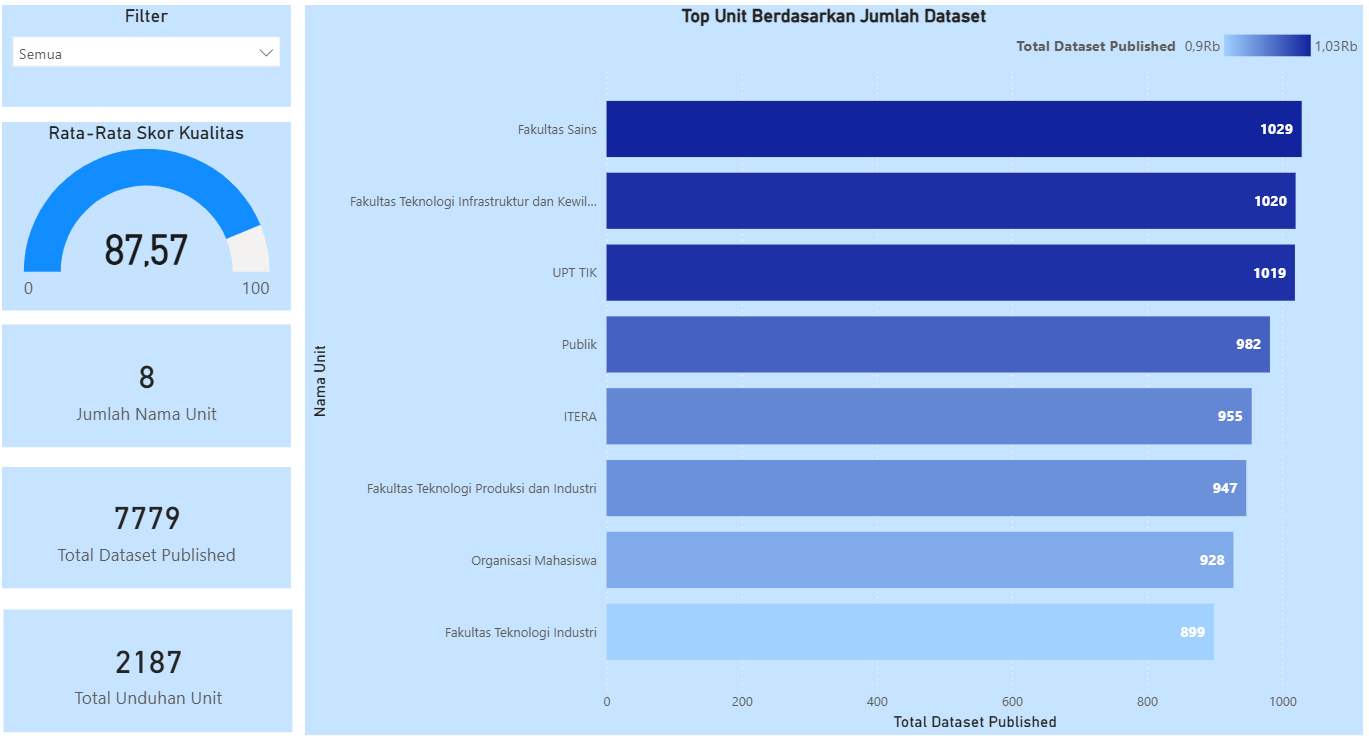

What the dashboard file says about the page in this screenshot:
{"tool":"powerbi","page":{"name":"Executive Governance","canvas":[1280,720],"ordinal":0},"visuals":[{"type":"clusteredBarChart","title":"Top Unit Berdasarkan Jumlah Dataset","fields":{"Category":["vw_Executive_Governance (4).Nama_Unit"],"Y":["Sum(vw_Executive_Governance (4).Total_Dataset_Published)"]},"box":[284.7,19.7,976.7,673.8],"z":0},{"type":"slicer","title":"Filter","fields":{"Values":["vw_Executive_Governance (4).Tahun","vw_Executive_Governance (4).Tipe_Unit","vw_Executive_Governance (4).Kuartal"]},"box":[6.1,19.7,266.5,93.9],"z":1000},{"type":"card","fields":{"Values":["Sum(vw_Executive_Governance (4).Total_Dataset_Published)"]},"box":[6.1,445.2,266.5,112.1],"z":2000},{"type":"card","fields":{"Values":["Sum(vw_Executive_Governance (4).Total_Unduhan_Unit)"]},"box":[6.5,577.5,266.9,113.2],"z":3000},{"type":"card","fields":{"Values":["Count(vw_Executive_Governance (4).Nama_Unit)"]},"box":[6.1,315,266.5,113.6],"z":4000},{"type":"gauge","fields":{"Y":["Avg(vw_Executive_Governance (4).Rata_Rata_Skor_Kualitas)"]},"box":[6.1,127.2,266.5,174.1],"z":5000}]}

Visuals, with their boxes on the page's 1280x720 design canvas (x1, y1, x2, y2). These are canvas units, not pixel positions in the 1369x745 screenshot, which may show the page scaled, cropped or inside an application window:
"Top Unit Berdasarkan Jumlah Dataset" clusteredBarChart: x1=285 y1=20 x2=1261 y2=694
"Filter" slicer: x1=6 y1=20 x2=273 y2=114
card - Sum(vw_Executive_Governance (4).Total_Dataset_Published): x1=6 y1=445 x2=273 y2=557
card - Sum(vw_Executive_Governance (4).Total_Unduhan_Unit): x1=6 y1=578 x2=273 y2=691
card - Count(vw_Executive_Governance (4).Nama_Unit): x1=6 y1=315 x2=273 y2=429
gauge - Avg(vw_Executive_Governance (4).Rata_Rata_Skor_Kualitas): x1=6 y1=127 x2=273 y2=301
